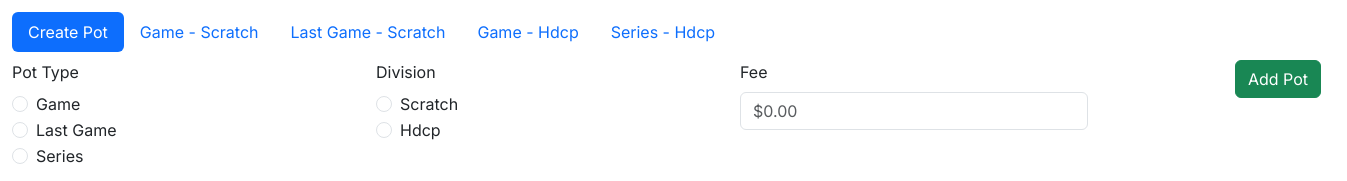
Test: ZeroToNPots - Component › render the component › render the 3rd pot › render the pot type value
Step 1. Click the tab "Game - Hdcp" → x=528, y=32, box [461,12,595,52]
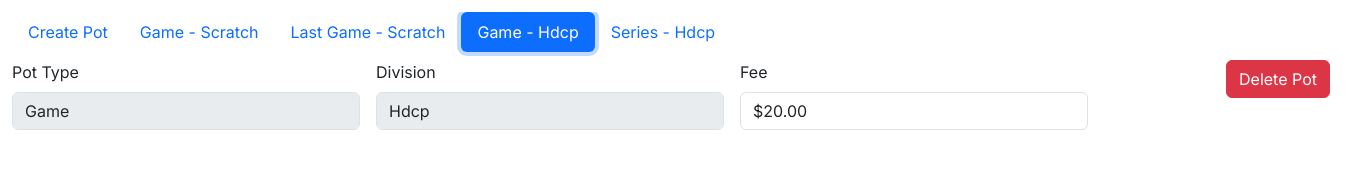
Check: the number of fields labelled "pot type" is 4
Check: the field labelled "Pot Type" holds "Game", box [12,92,360,130]
Check: the field labelled "Pot Type" is disabled, box [12,92,360,130]
